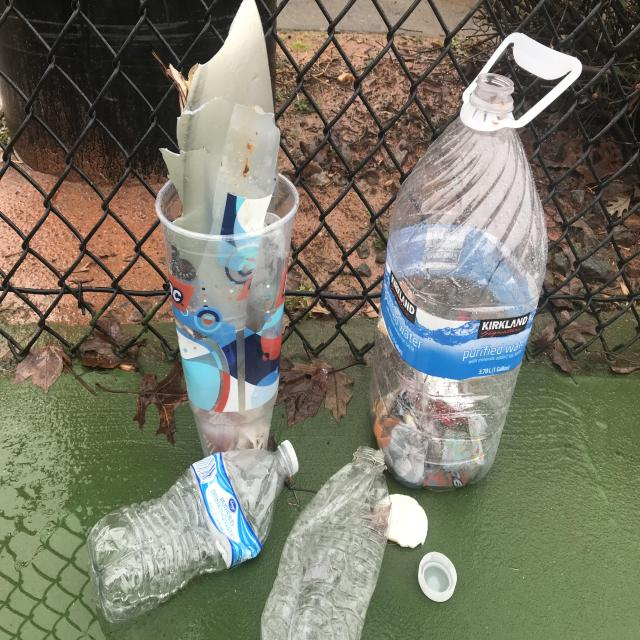litter: (369, 139, 550, 492), (155, 136, 302, 459), (88, 436, 301, 625), (257, 443, 393, 639), (416, 551, 457, 608)
